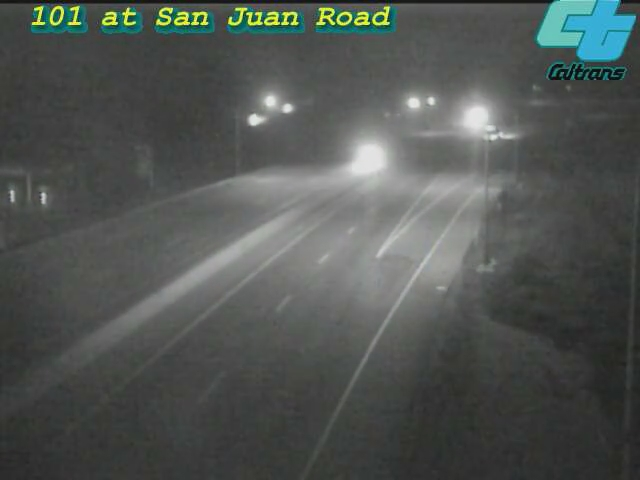vehicle: (344, 132, 394, 182), (449, 93, 499, 143), (471, 107, 521, 157)
